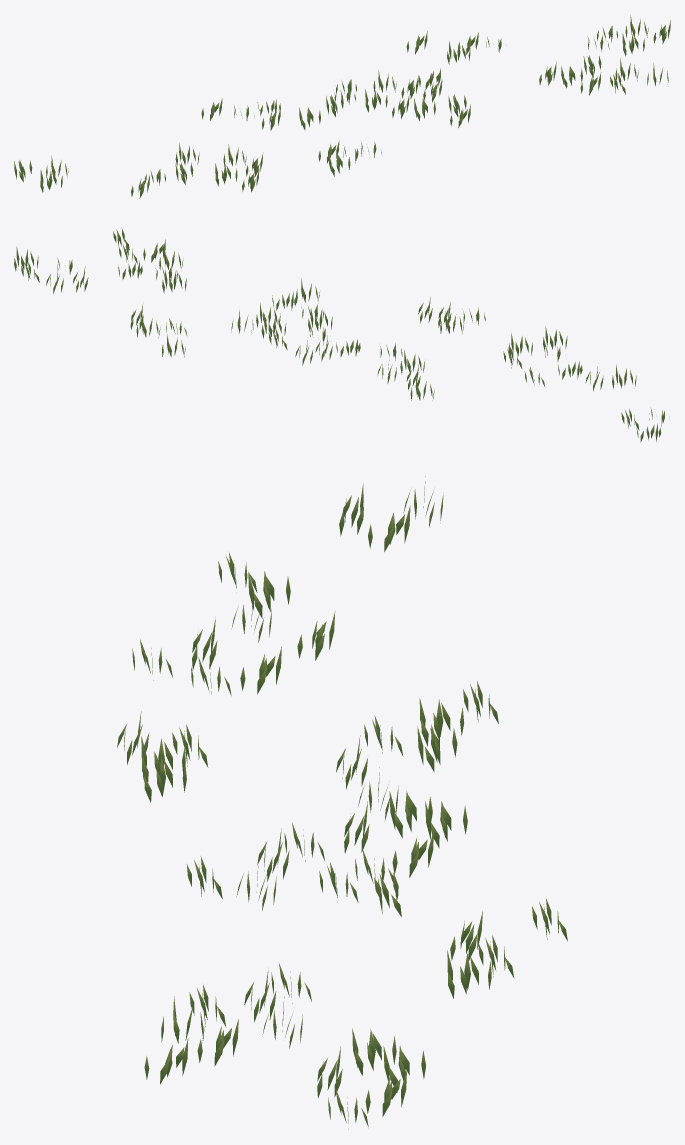
File: plants_un_main_grass_set31_03.gltf
3 views of the same model, one above another, from view 1: azimuth 30°, elevation 25°; view 2: azimuth 150°, elevation 25°; view 3: azimuth 270°, elevation 25° (orthographic). The views are drawn at different scales.
Parts seen in each view (by area): view 1: plants_un_main_grass_set31_03_mesh_shape:plants_un_main_gras; view 2: plants_un_main_grass_set31_03_mesh_shape:plants_un_main_gras; view 3: plants_un_main_grass_set31_03_mesh_shape:plants_un_main_gras.
Boxes of the visible parts, x1,y1,x2,y2 form: plants_un_main_grass_set31_03_mesh_shape:plants_un_main_gras: [14, 15, 670, 198]; plants_un_main_grass_set31_03_mesh_shape:plants_un_main_gras: [14, 227, 669, 442]; plants_un_main_grass_set31_03_mesh_shape:plants_un_main_gras: [117, 476, 567, 1129].
Size of what is drawn, in the model's own units: 14.84 by 0.4607 by 4.55.
1 material, 1 textured.
